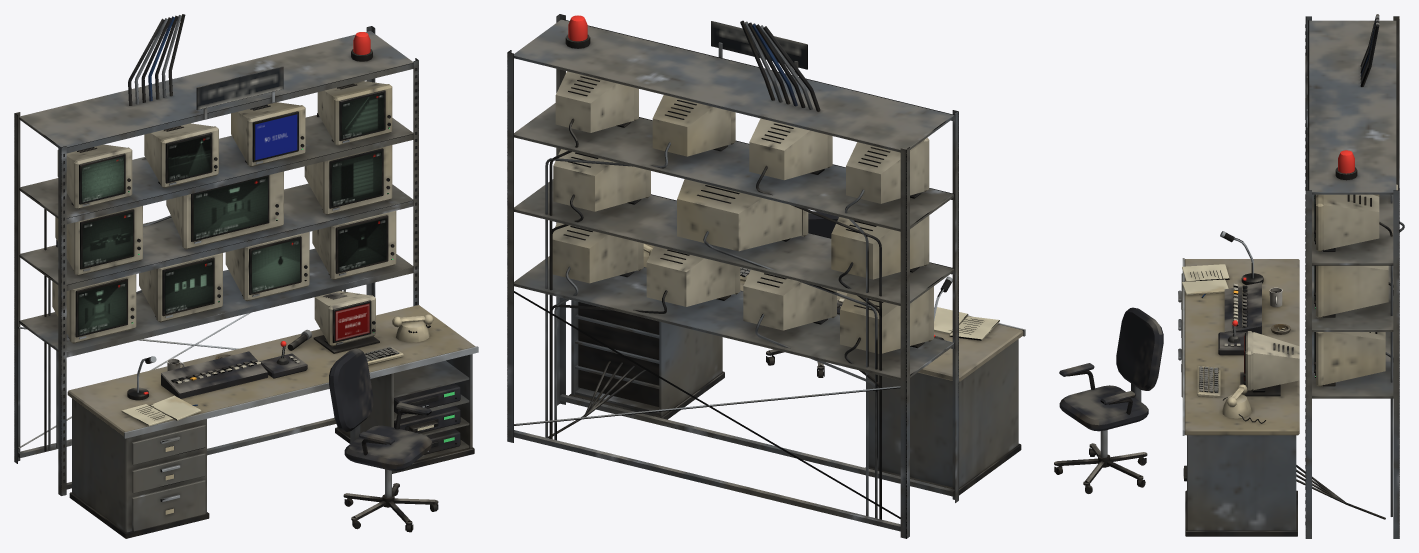
File: SurveillanceStation.fbx
3 renders of one model, left to right at view 1: azimuth 30°, elevation 25°; view 2: azimuth 150°, elevation 25°; view 3: azimuth 270°, elevation 25°, orthographic. The views are drawn at different scales.
Visible parts, largest first — view 1: Frame, Chair, Feed03, Feed06, Feed11, Feed12, Feed04, Feed01, Feed02, Feed07, Feed05, Feed08 (+2 smaller); view 2: Frame, Chair; view 3: Frame, Chair.
Boxes of the visible parts, <box> form: Frame: <box>14,14,478,538</box>; Chair: <box>329,348,438,532</box>; Feed03: <box>193,176,267,239</box>; Feed06: <box>82,212,132,267</box>; Feed11: <box>331,151,381,206</box>; Feed12: <box>338,218,386,271</box>; Feed04: <box>251,239,299,292</box>; Feed01: <box>78,281,126,335</box>; Feed02: <box>165,260,213,313</box>; Feed07: <box>168,135,210,181</box>; Feed05: <box>81,156,123,202</box>; Feed08: <box>255,114,297,160</box>; Frame: <box>507,14,1025,538</box>; Chair: <box>766,211,838,377</box>; Frame: <box>1178,14,1404,538</box>; Chair: <box>1054,307,1163,493</box>.
Bounding box in the file's own units: 7.92 × 8.84 × 6.73.
Materials: 1 (1 with a texture image).
